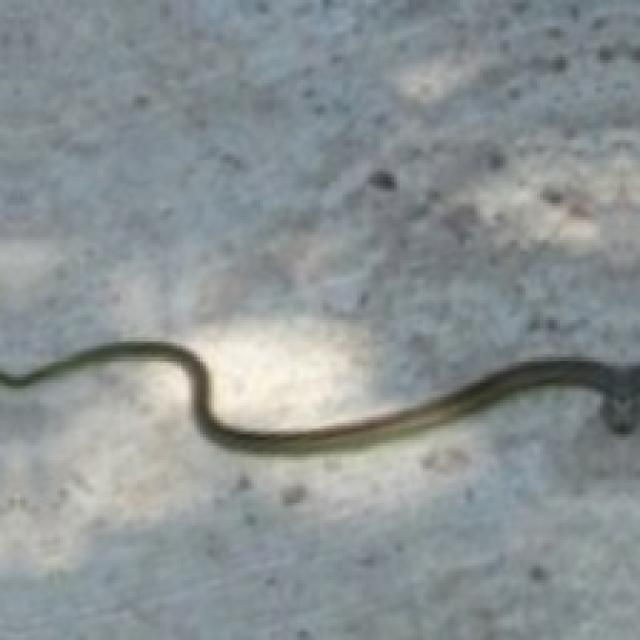philippine bronzeback treesnake: (0, 340, 637, 451)
